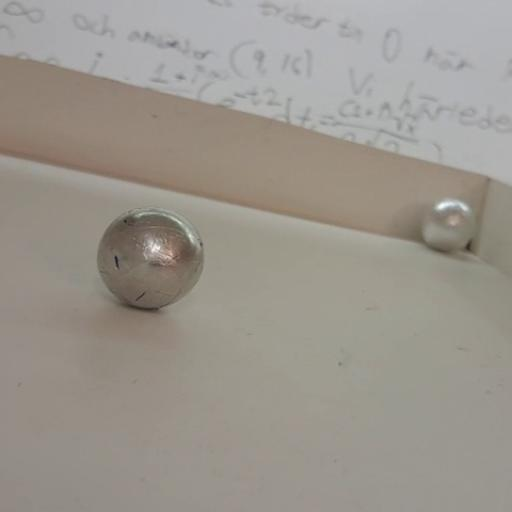alive: (97, 208, 203, 310), (422, 197, 474, 251)
